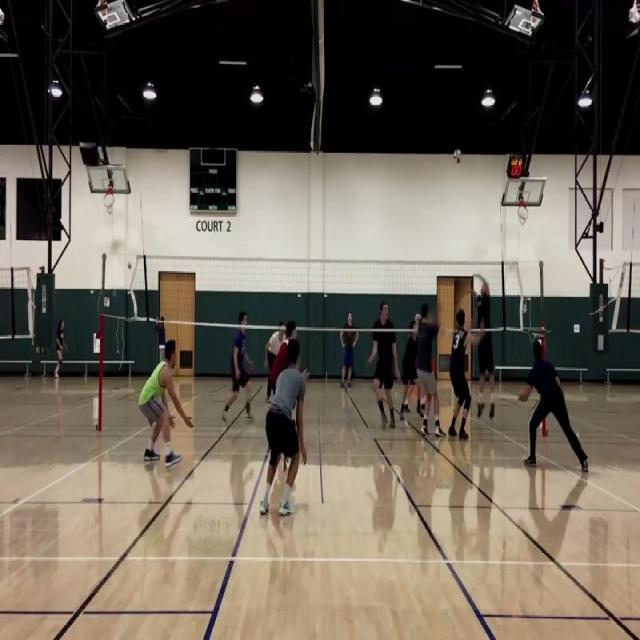volleyball: (453, 149, 461, 162), (128, 262, 132, 268)
